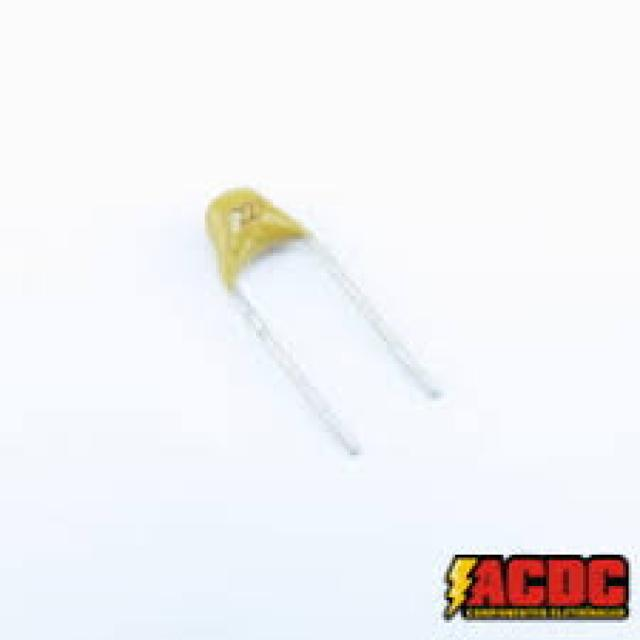Resistor: (202, 188, 313, 293)
